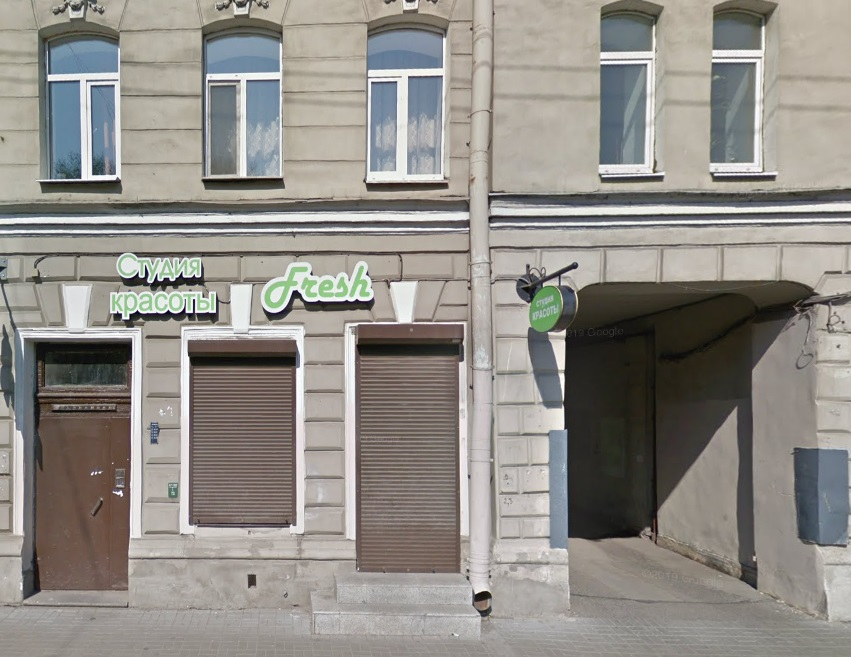arch: (562, 279, 825, 623)
cantilever: (509, 262, 578, 330)
door: (34, 416, 114, 594)
signboard: (111, 250, 374, 315)
window: (188, 340, 296, 527), (367, 19, 447, 178), (203, 27, 284, 179), (44, 29, 117, 179), (600, 7, 657, 173), (711, 5, 765, 171), (34, 342, 134, 396)
